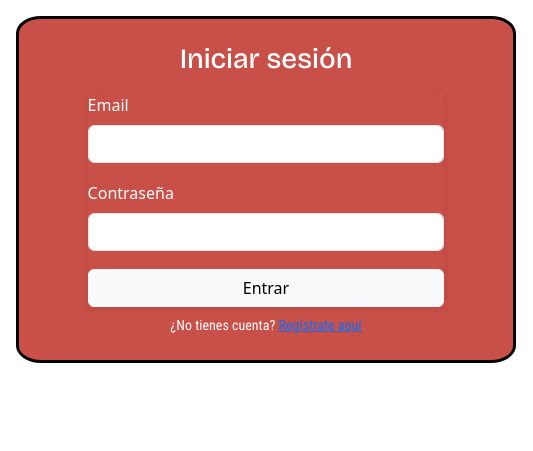
it: Login Page › muestra errores de validación con campos vacíos
This screenshot has width=533, height=451.
Click the button "Entrar": (266, 288) [88,269,444,307]
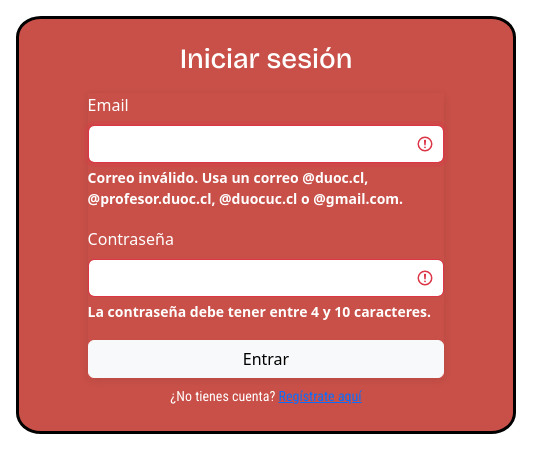
Expected: the text "Correo inválido" is shown, [88,168,403,208]
Expected: the text "La contraseña debe tener entre 4 y 10 caracteres." is shown, [88,301,444,322]
